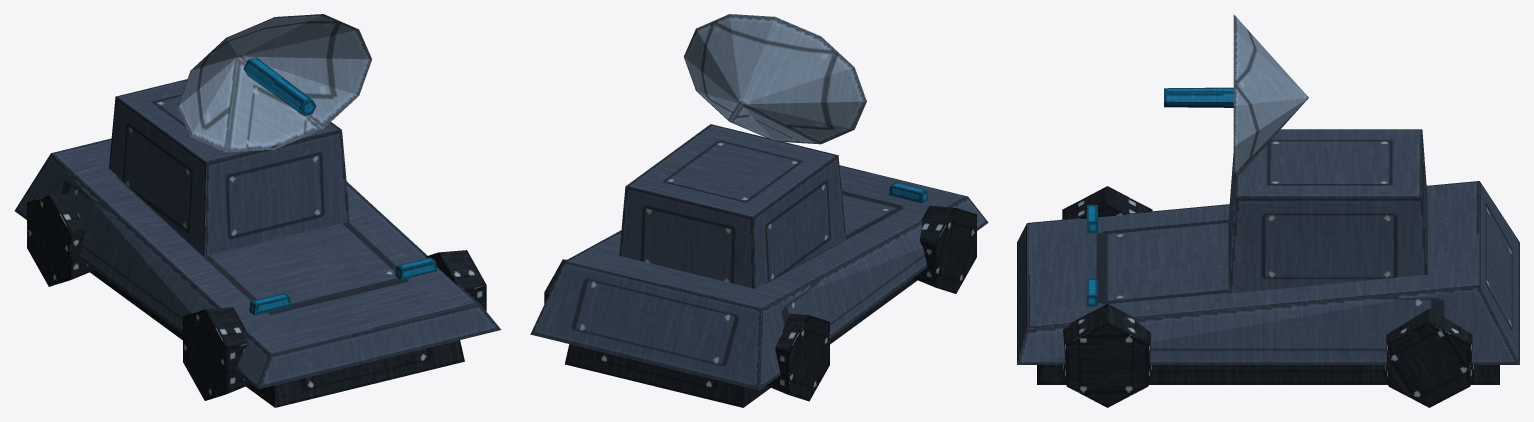
The model's file is unit-mobile_radar.fbx.
The picture shows the model from 3 angles, left to right: view 1: azimuth 30°, elevation 25°; view 2: azimuth 150°, elevation 25°; view 3: azimuth 270°, elevation 25°; orthographic projection. The views are drawn at different scales.
Visible parts, largest first — view 1: unit-mobile_radar; view 2: unit-mobile_radar; view 3: unit-mobile_radar.
Boxes of the visible parts, x1,y1,x2,y2 form: unit-mobile_radar: (14,14,501,407); unit-mobile_radar: (530,14,988,407); unit-mobile_radar: (1017,14,1519,407).
Bounding box in the file's own units: 323 × 362 × 520.
Materials: 1 (1 with a texture image).
